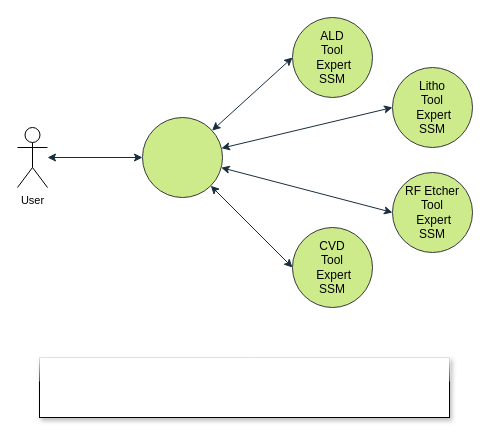
Image size: 490x442. Some labels were removed from this diagram. Each missing label, with the centre of its shape:
OpenSSM Composability Easily combine domain knowledge with SSMs: (245,388)
Semicond Tool Expert SSM: (182,157)
